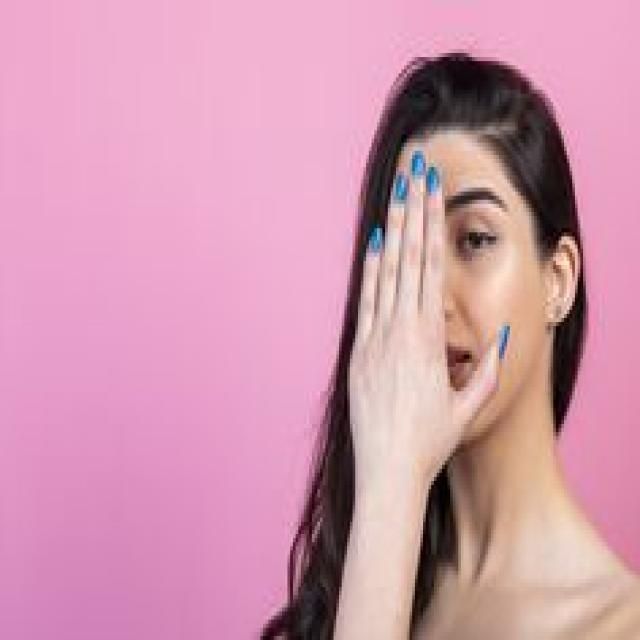7_mano_rostro: (386, 155, 510, 534)
